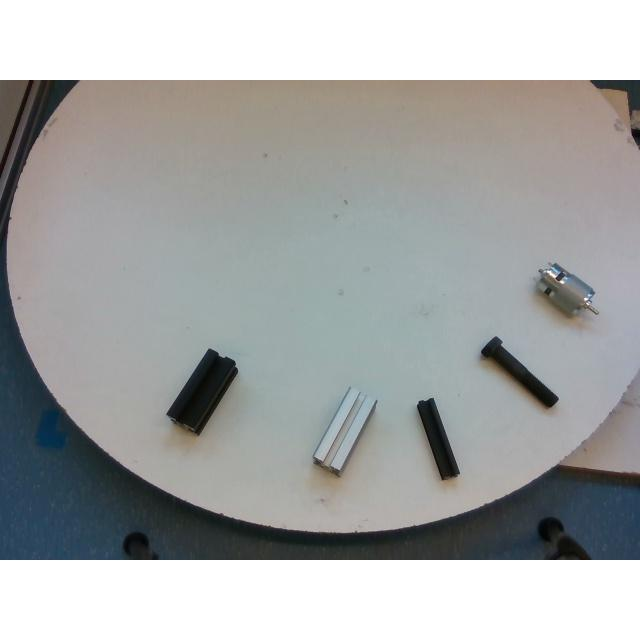F20_20_B: (418, 398, 458, 478)
M20_100: (482, 336, 558, 406)
Motor2: (536, 262, 596, 314)
S40_40_B: (167, 349, 237, 433)
S40_40_G: (312, 388, 376, 474)
